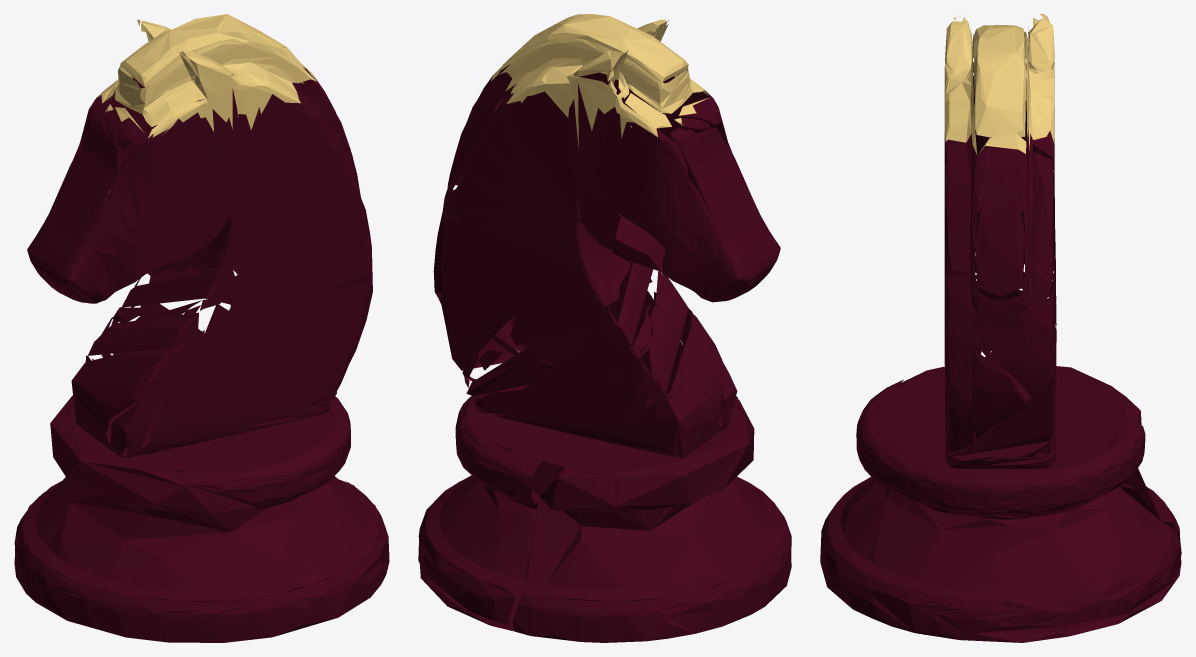
Rendered from gercek3_n_b.glb.
3 views of the same model, side by side, from view 1: azimuth 30°, elevation 25°; view 2: azimuth 150°, elevation 25°; view 3: azimuth 270°, elevation 25° (orthographic).
Visible parts, largest first — view 1: world; view 2: world; view 3: world.
Boxes of the visible parts, box(x1,y1,x2,y2) form: world: box(14, 14, 389, 642); world: box(418, 14, 791, 642); world: box(820, 14, 1181, 642).
Bounding box in the file's own units: 0.5666 × 0.8998 × 0.5533.
